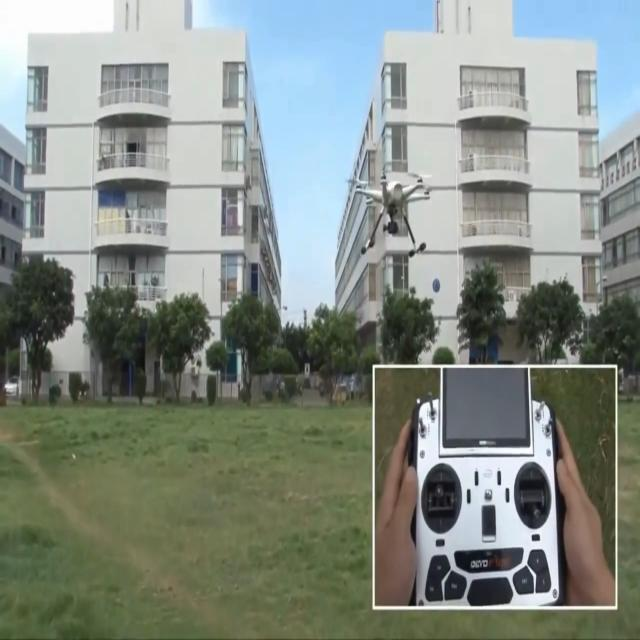drone: (346, 164, 432, 258)
